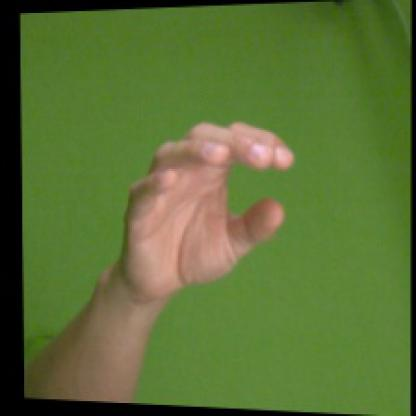Hand: (124, 121, 295, 299)
